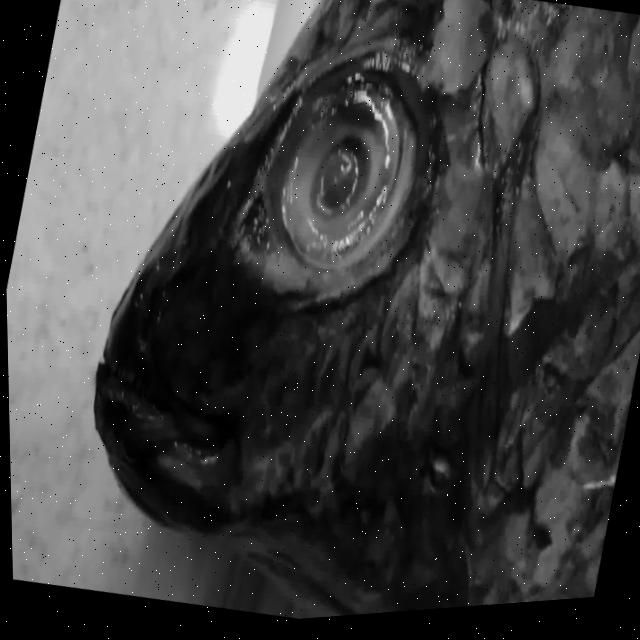Non-Fresh: (233, 35, 457, 326)
